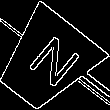N_SW: (15, 29, 79, 94)
